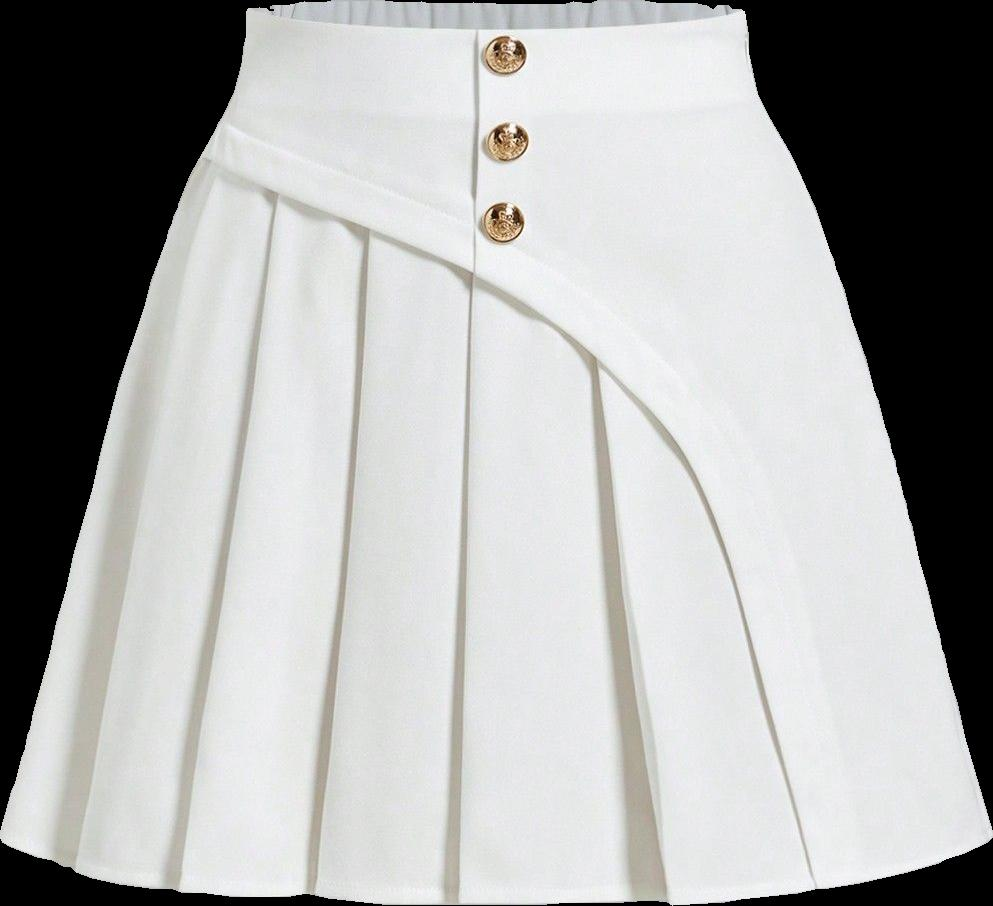Hemline: (0, 833, 809, 905)
Waistline: (201, 150, 818, 894), (243, 5, 746, 40)
